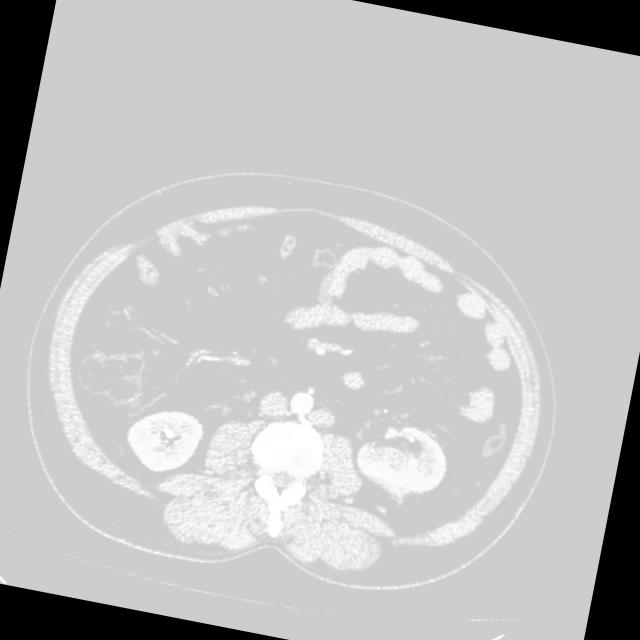TUMOR: (73, 243, 550, 560)
